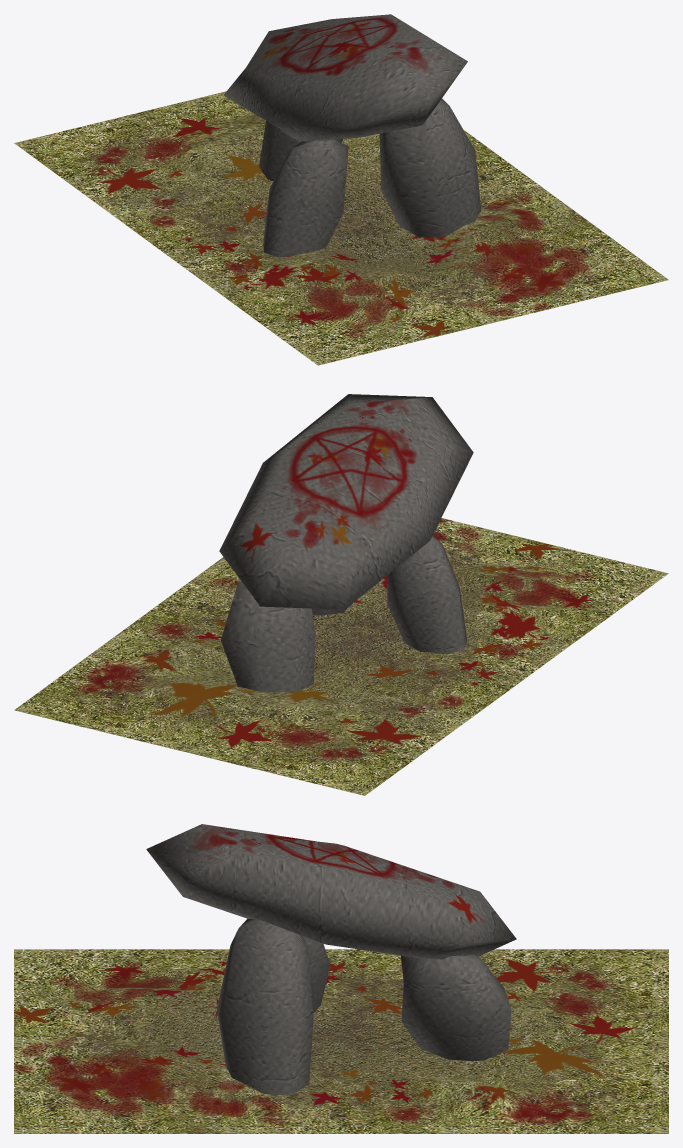
The model's file is 3-5_Ghost_House.fbx.
3 renders of one model, top to bottom at view 1: azimuth 30°, elevation 25°; view 2: azimuth 150°, elevation 25°; view 3: azimuth 270°, elevation 25°, orthographic. The views are drawn at different scales.
Visible parts, largest first — view 1: Ghost_House; view 2: Ghost_House; view 3: Ghost_House.
Part boxes in pixels (box(x1,y1,x2,y2)): Ghost_House: box(14, 14, 668, 365); Ghost_House: box(14, 394, 668, 795); Ghost_House: box(14, 824, 668, 1133).
Bounding box in the file's own units: 200 × 123 × 300.
1 material, 1 textured.
